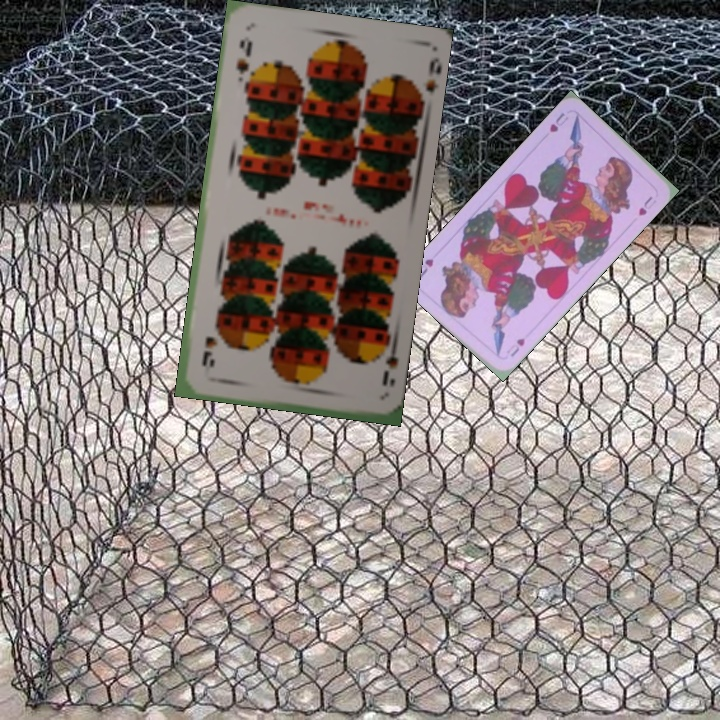HU: (545, 109, 571, 135), (502, 334, 528, 360)
S9: (374, 338, 401, 389), (232, 35, 255, 77)
